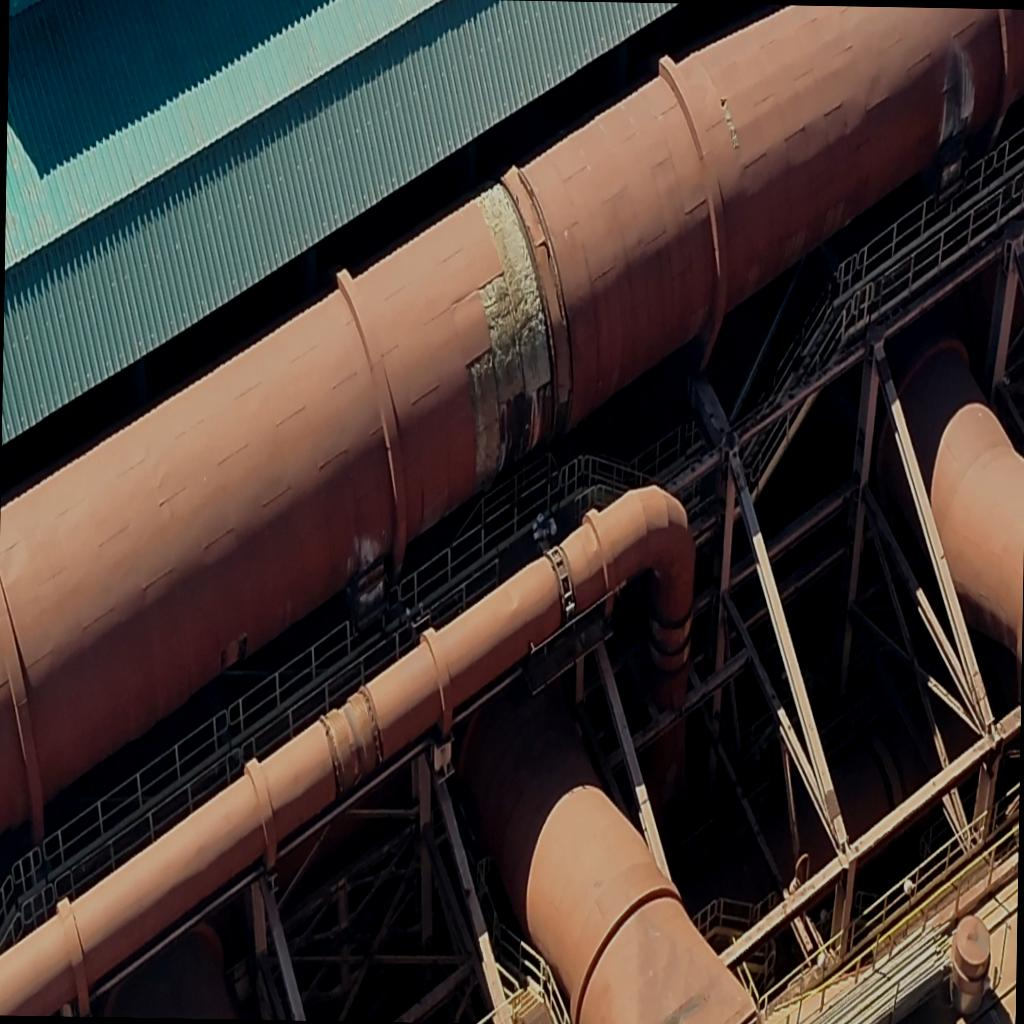Failures: (466, 177, 556, 453), (474, 270, 524, 460), (464, 346, 502, 485)
